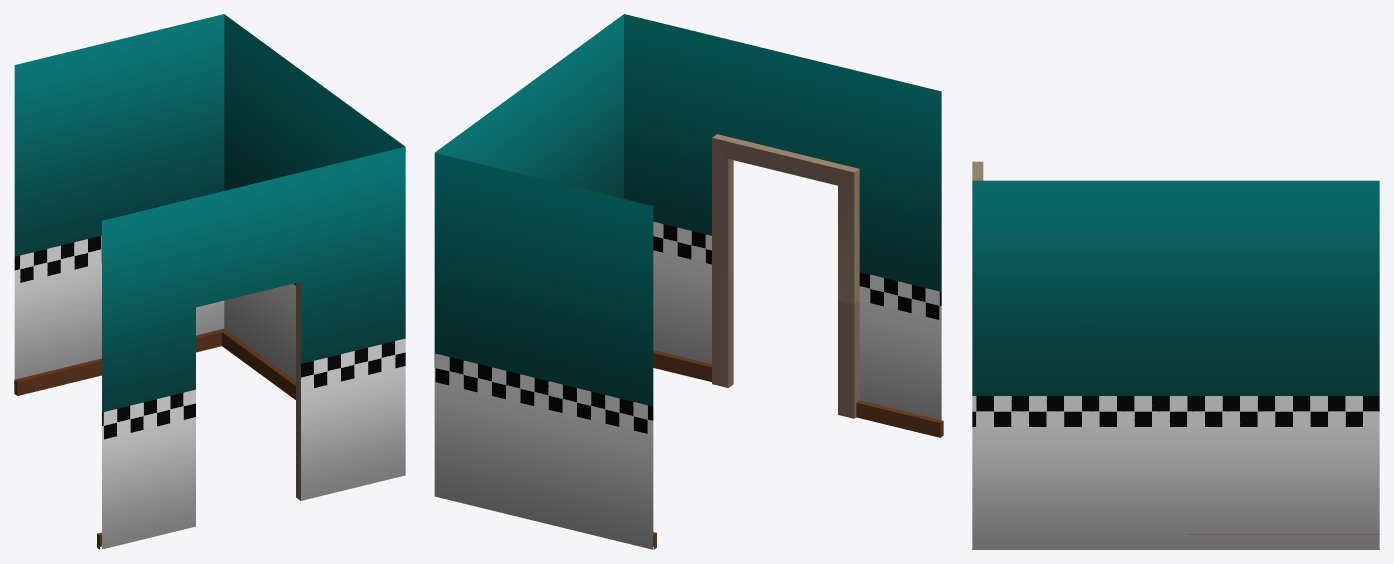
The model's file is m_thomas_wall.fbx.
The picture shows the model from 3 angles, left to right: view 1: azimuth 30°, elevation 25°; view 2: azimuth 150°, elevation 25°; view 3: azimuth 270°, elevation 25°; orthographic projection. The views are drawn at different scales.
Parts seen in each view (by area): view 1: m_thomas_wall; view 2: m_thomas_wall; view 3: m_thomas_wall.
Boxes of the visible parts, x1,y1,x2,y2 form: m_thomas_wall: (14,14,405,549); m_thomas_wall: (434,14,943,549); m_thomas_wall: (972,161,1379,549).
Bounding box in the file's own units: 292 × 300 × 300.
